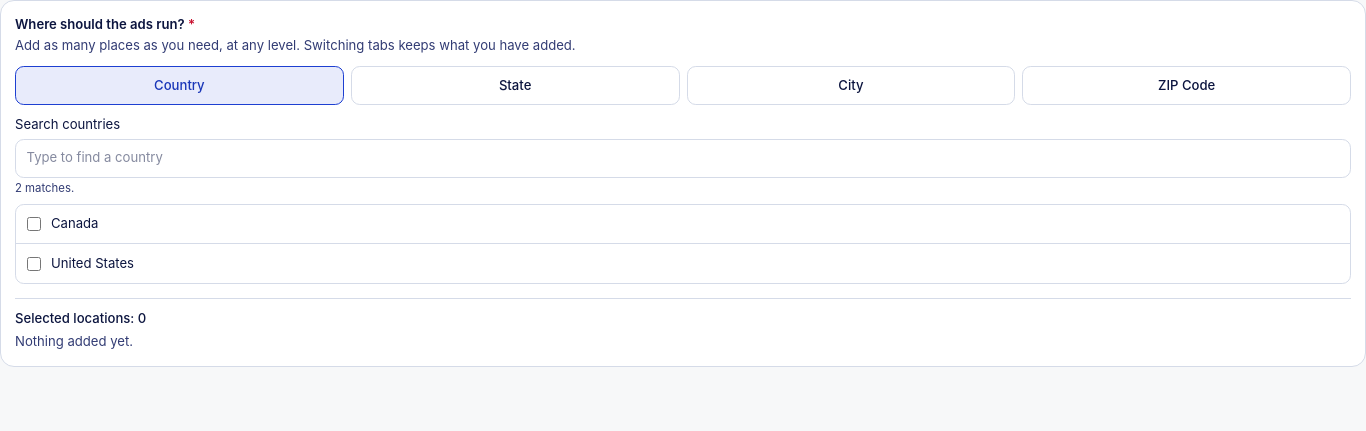
LocationPicker › adds a code no service could check, and says so on its chip
The image size is (1366, 431).
Click the tab "ZIP Code" at (1187, 86), box [1022,66,1351,105]
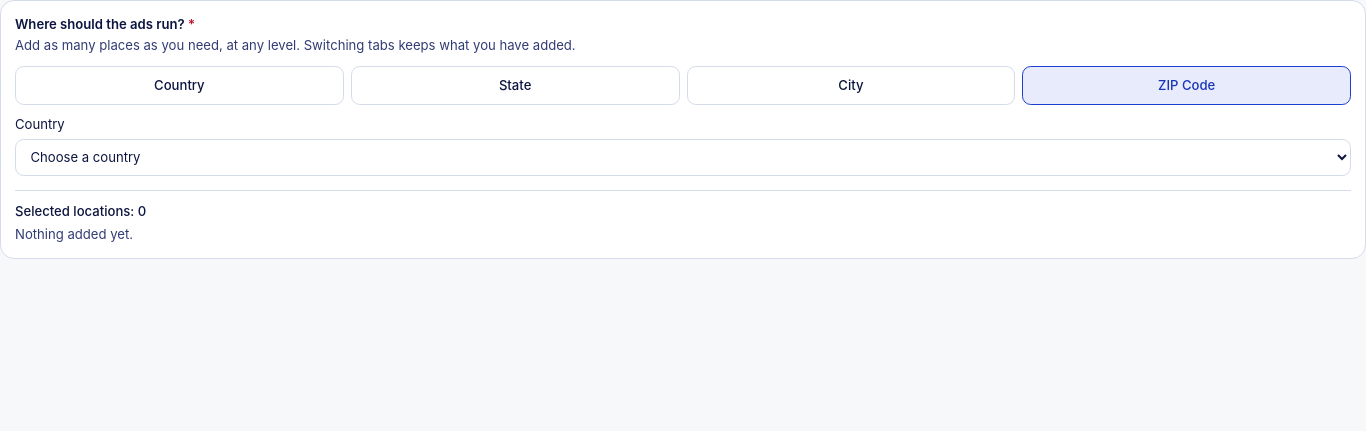
Select "Canada" in the dropdown labelled "Country" at (683, 157), box [15,138,1351,176]
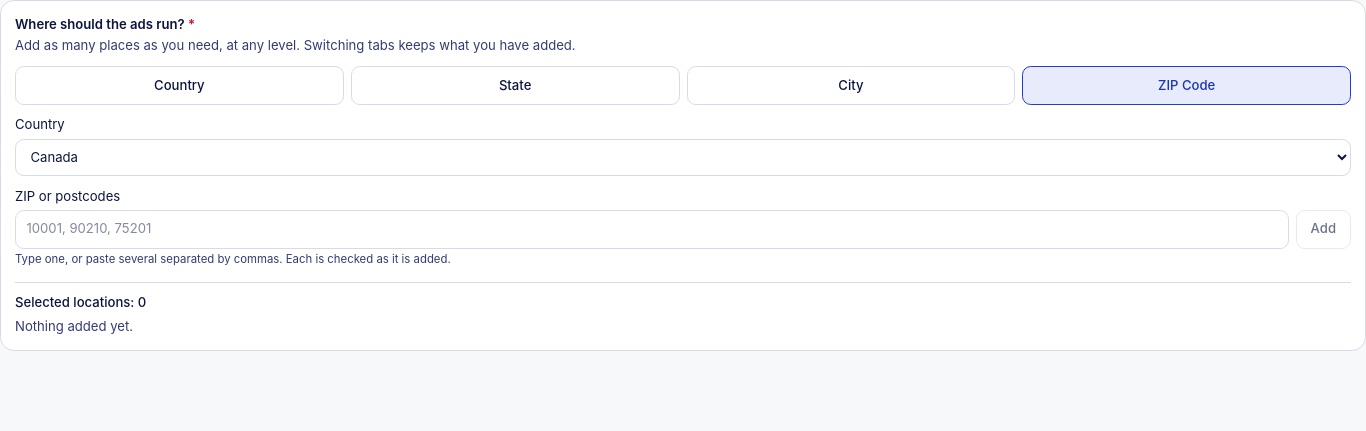
Type "M5V 3L9" into the field labelled "ZIP or postcodes" at (652, 229), box [15,210,1289,249]
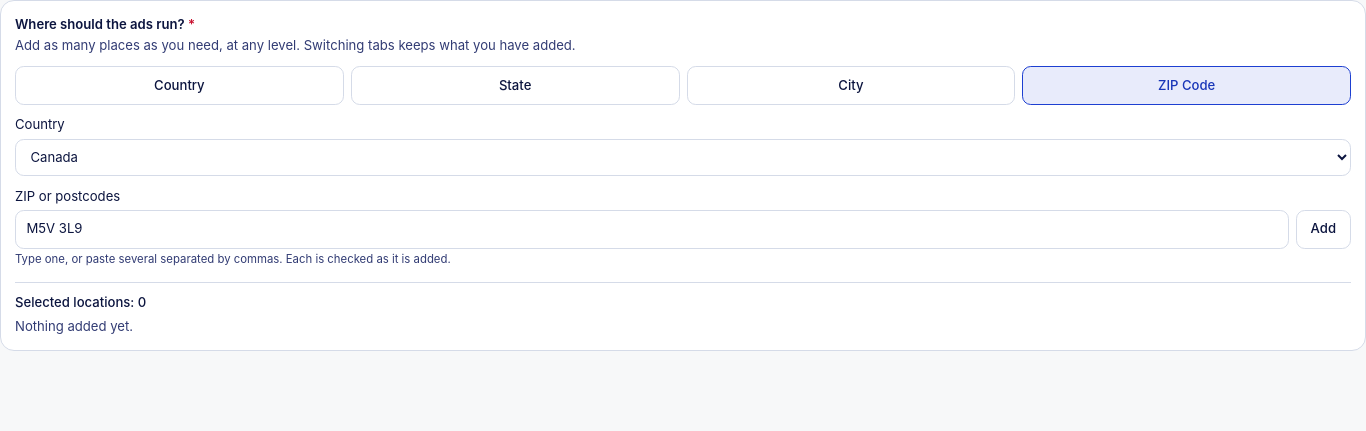
Click the button "Add" at (1323, 229), box [1296,210,1351,249]
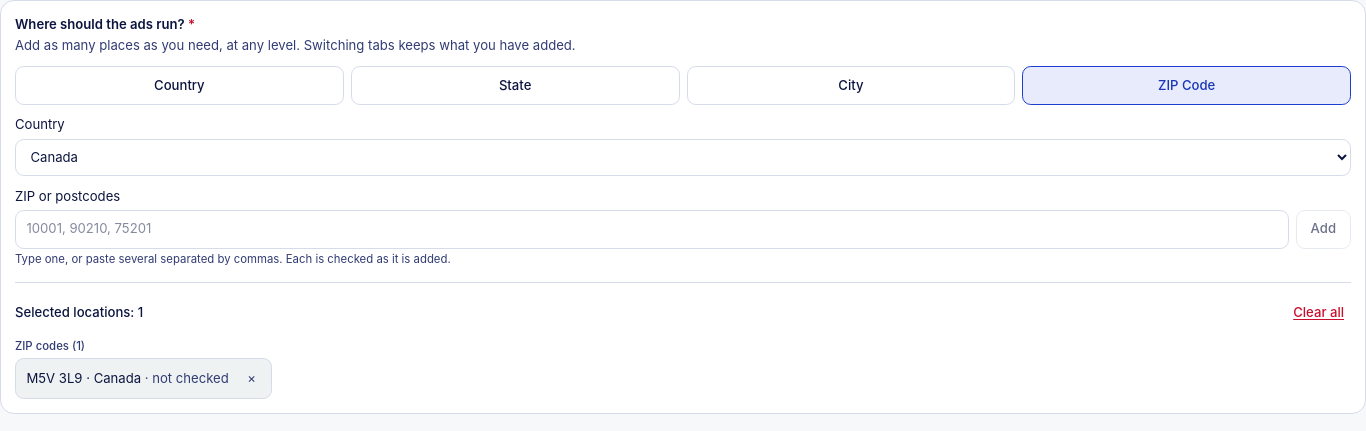
Check: the text "· not checked" is shown, box [141,370,229,386]
Check: the list named "ZIP codes" shows "M5V 3L9 · Canada", box [26,370,141,386]
